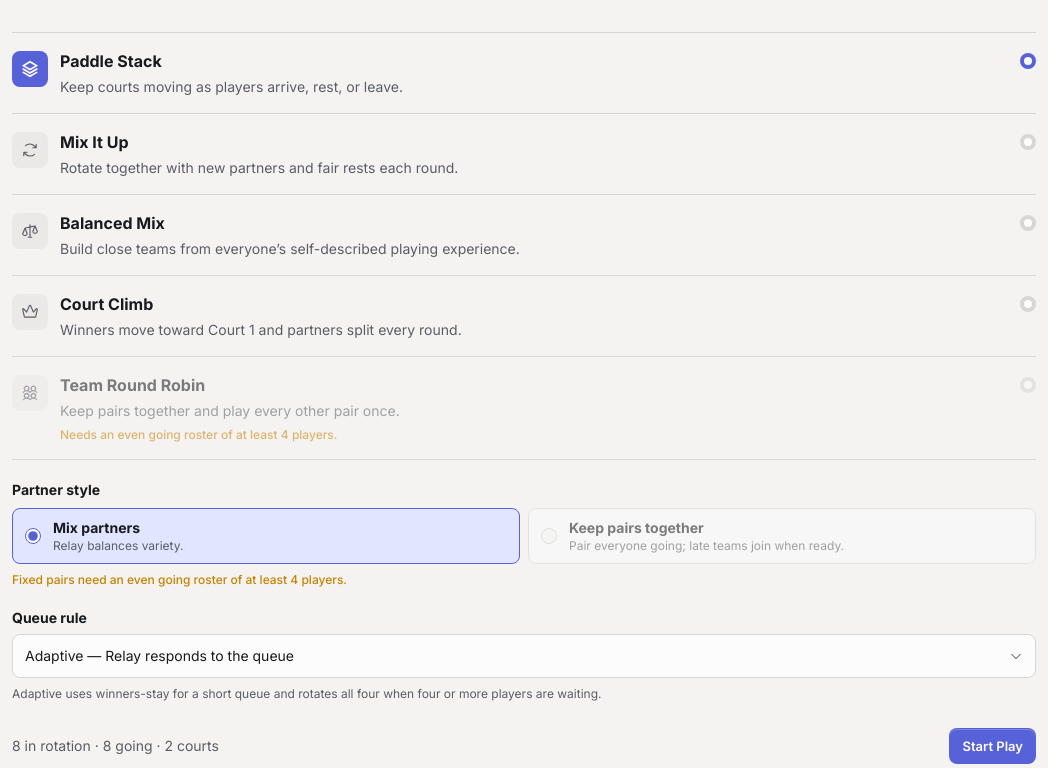
PlaySetupForm › explains and selects Mix It Up without showing Paddle Stack rules
Click the radio button labelled "Mix It Up": point(30, 150) [12,114,1036,195]
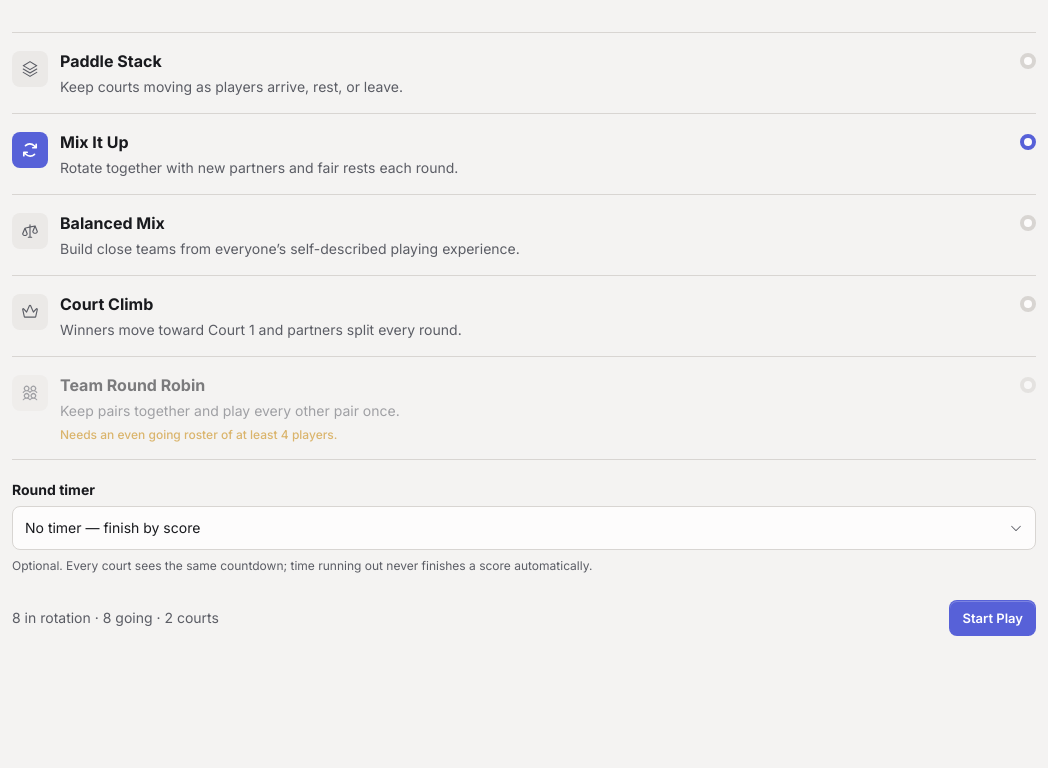
Expected: the text "Rotate together with new partners and fair rests each round." is shown, [60,159,458,176]
Expected: the label labelled "Queue rule" is gone
Expected: the button named "Round timer" is shown, [12,506,1036,550]
